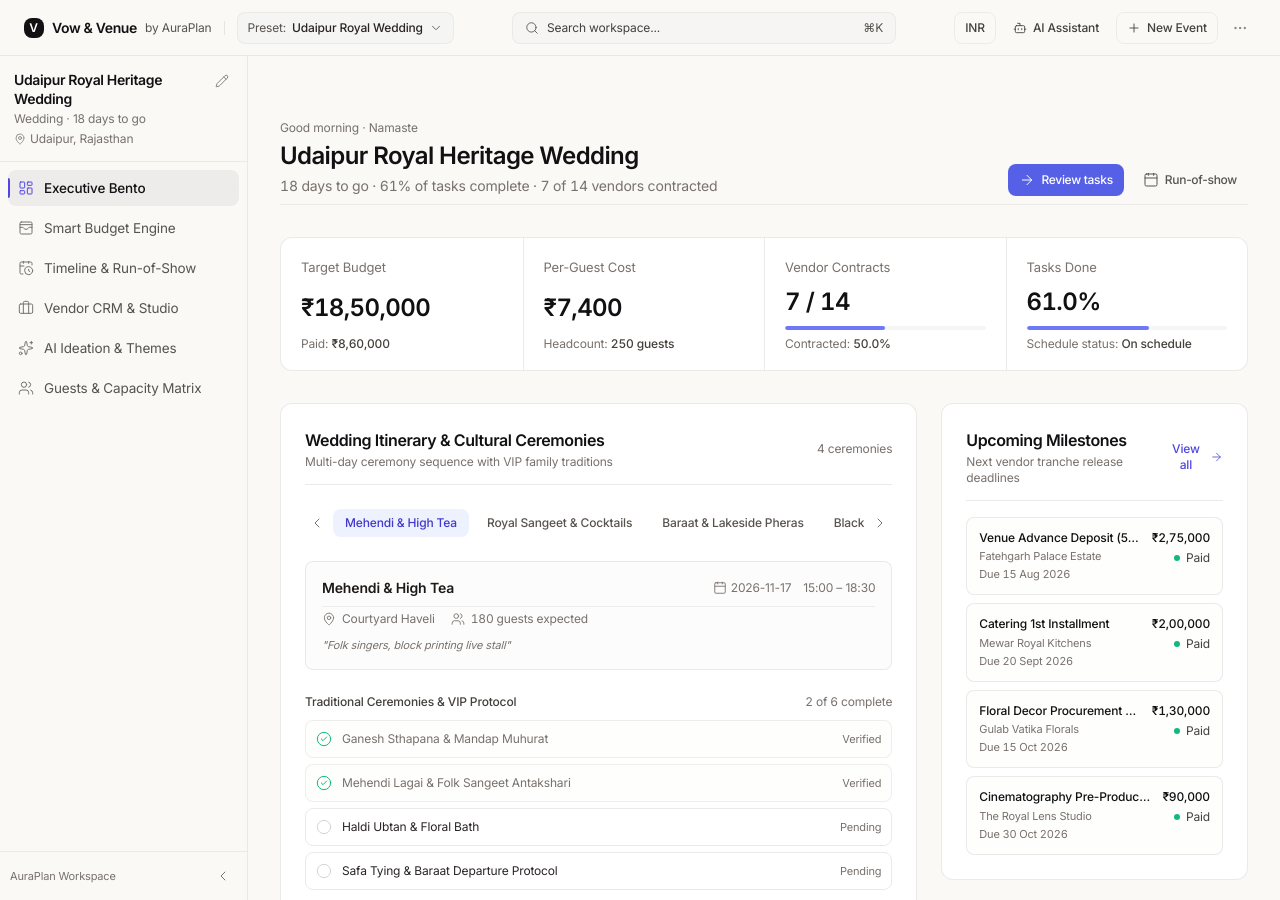
Test case: CommandPalette Keyboard Navigation and Execution › shows empty state when no matching command is found
Press k
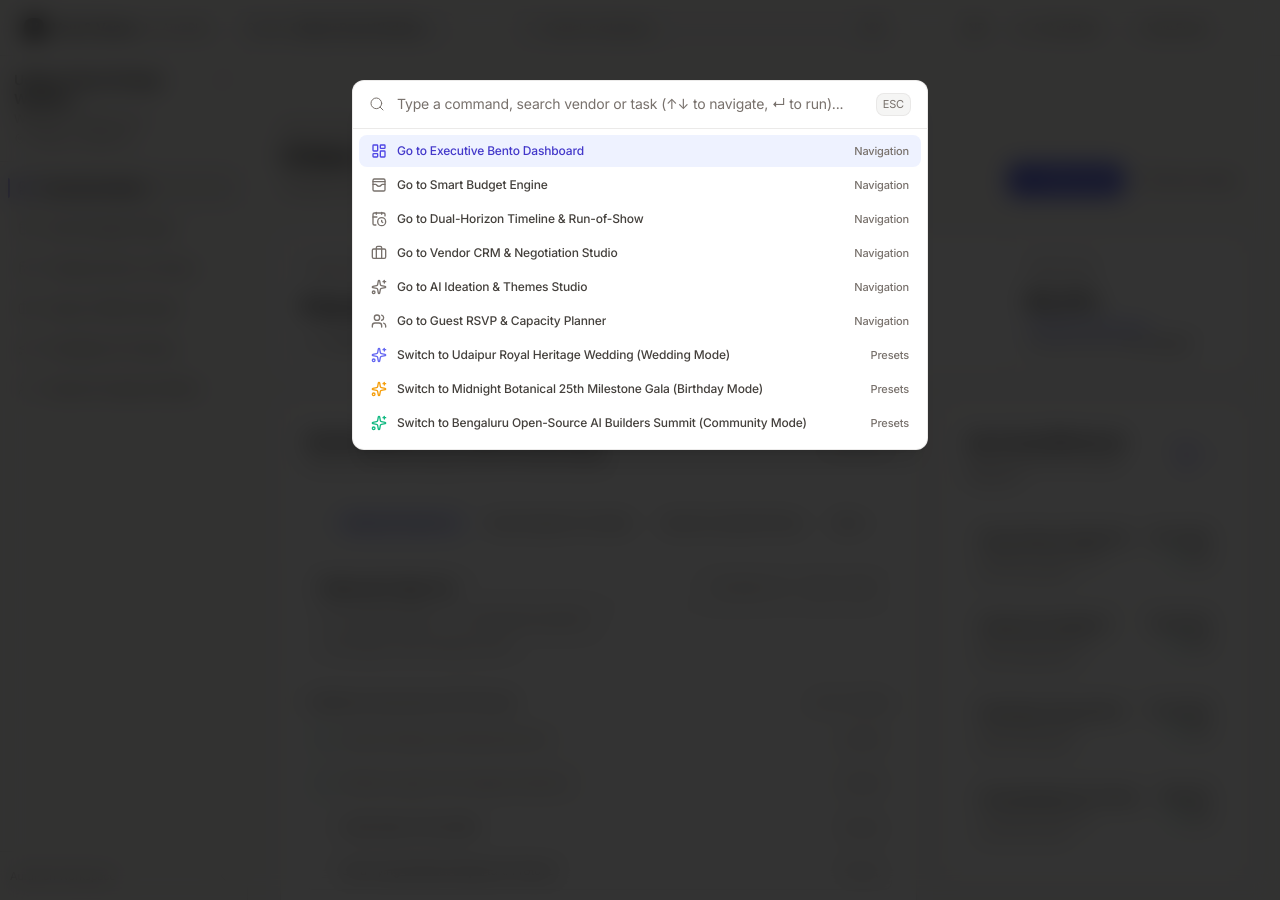
Check: the dialog named "Command Palette" is shown
Replace the text in the field with placeholder "Type a command" with "NON_EXISTENT_COMMAND_XYZ". click: (630, 104)
box: [397,94,864,114]
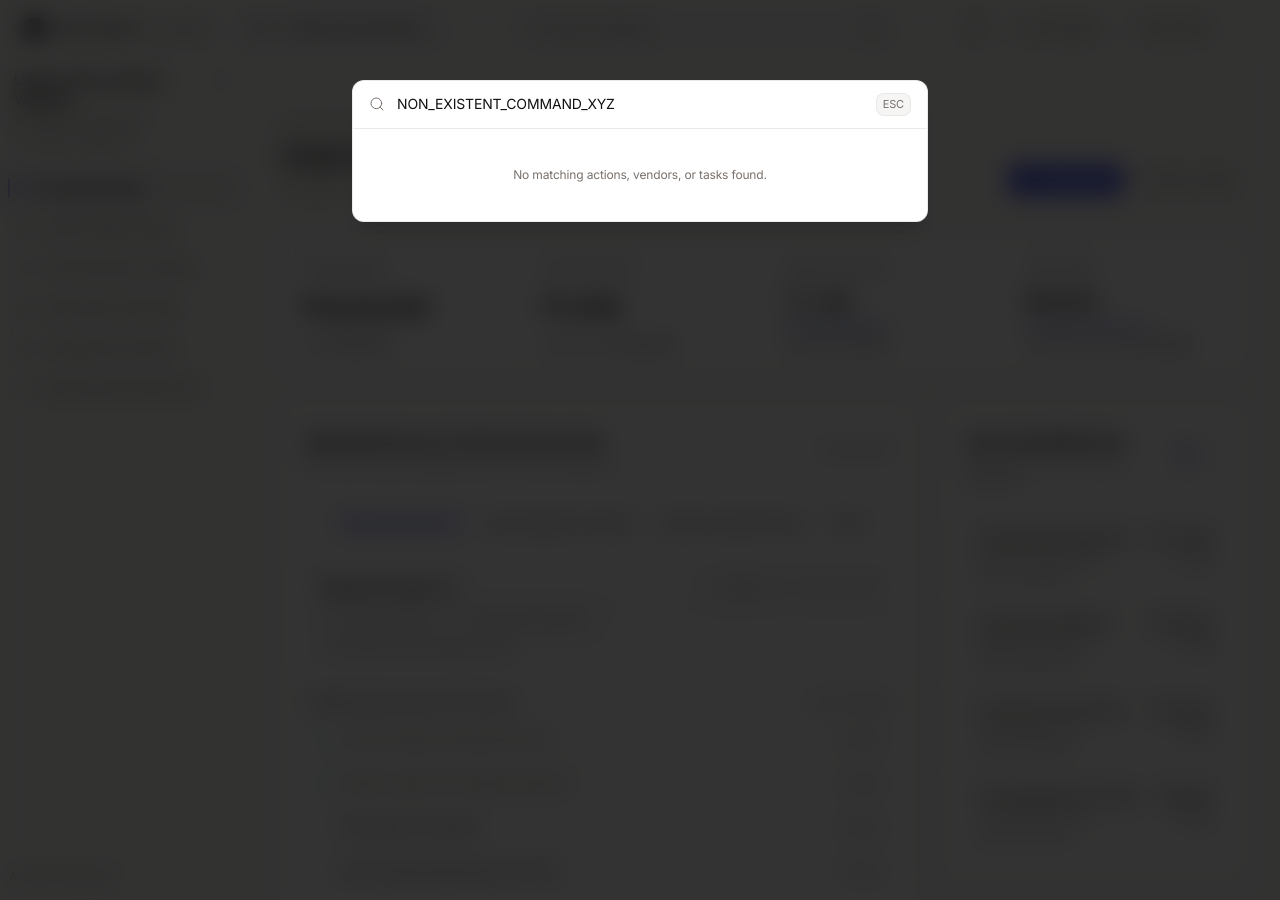
Check: the text "No matching actions, vendors, or tasks found." is shown, box [513,166,767,182]
